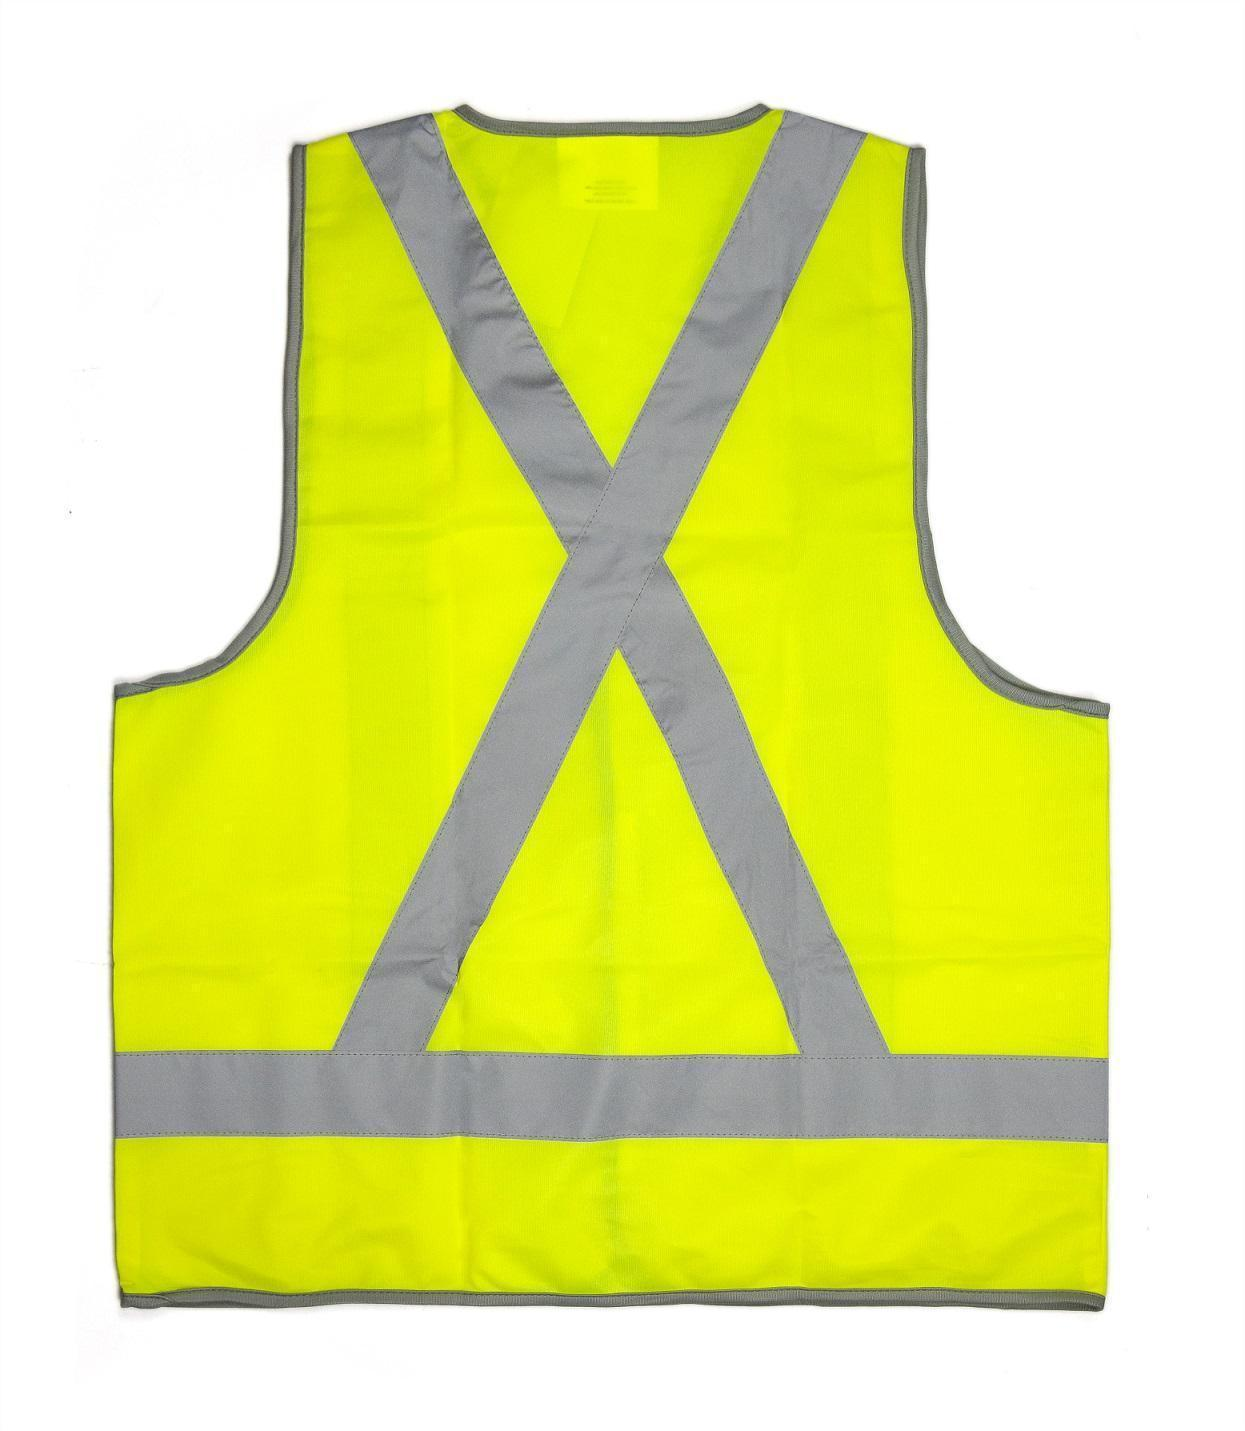Glass: (79, 80, 1110, 1116)
